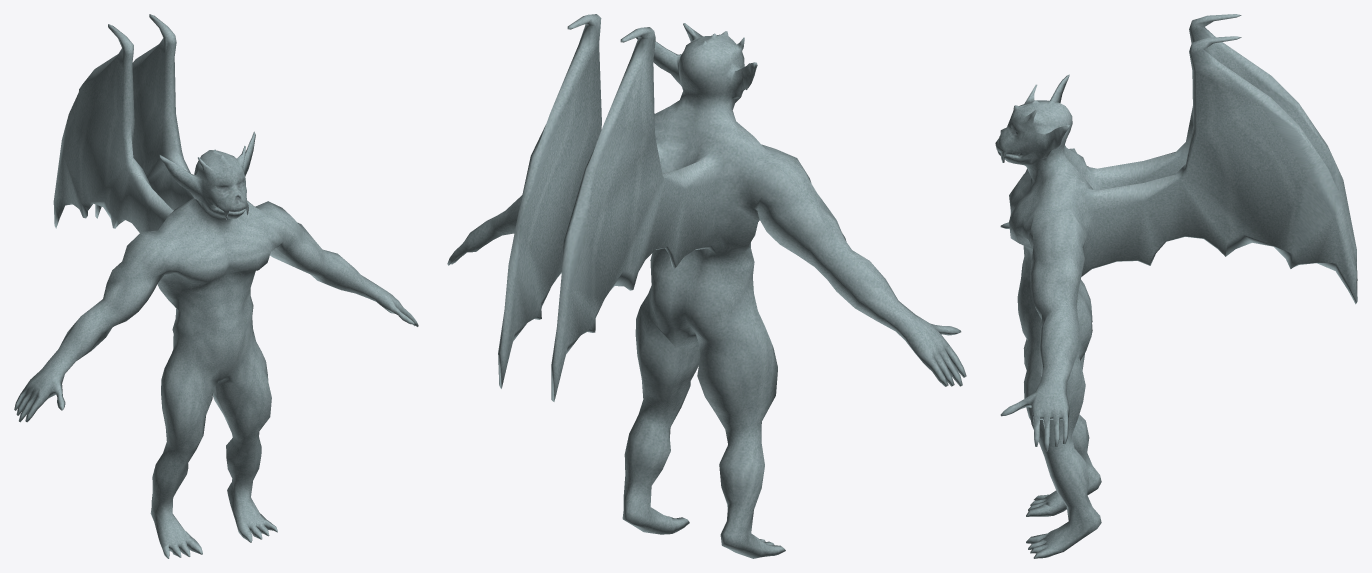
File: Gargoyle_1.obj
3 views of the same model, side by side, from view 1: azimuth 30°, elevation 25°; view 2: azimuth 150°, elevation 25°; view 3: azimuth 270°, elevation 25° (orthographic). The views are drawn at different scales.
Parts seen in each view (by area): view 1: Gargoyle_1; view 2: Gargoyle_1; view 3: Gargoyle_1.
Part boxes in pixels (x1,y1,x2,y2): Gargoyle_1: (14,14,418,558); Gargoyle_1: (447,14,966,558); Gargoyle_1: (995,14,1357,558).
Size of the model in its own units: 67.47 by 74.66 by 48.5.
